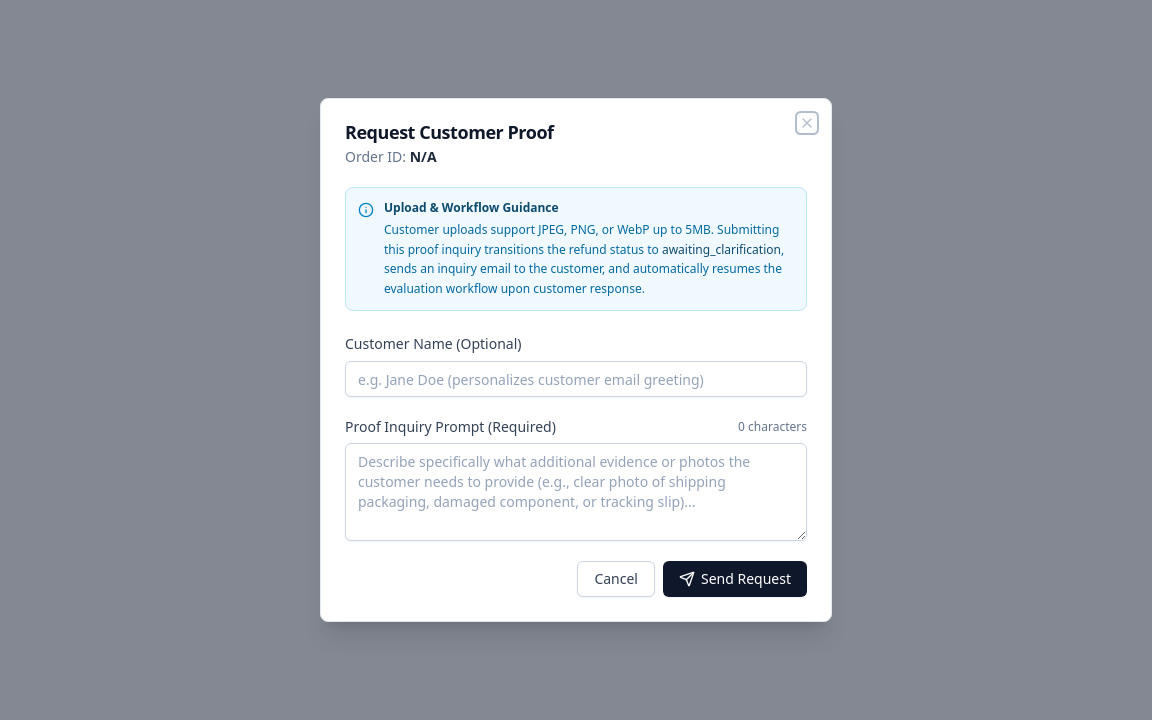
Scenario: RequestProofModal component › displays RFC 9457 ProblemDetails alert banner on mutation failure without closing modal or clearing inputs
Type "Alice" into the field labelled "Customer Name (Optional)" at (576, 379), box [345,361,807,397]
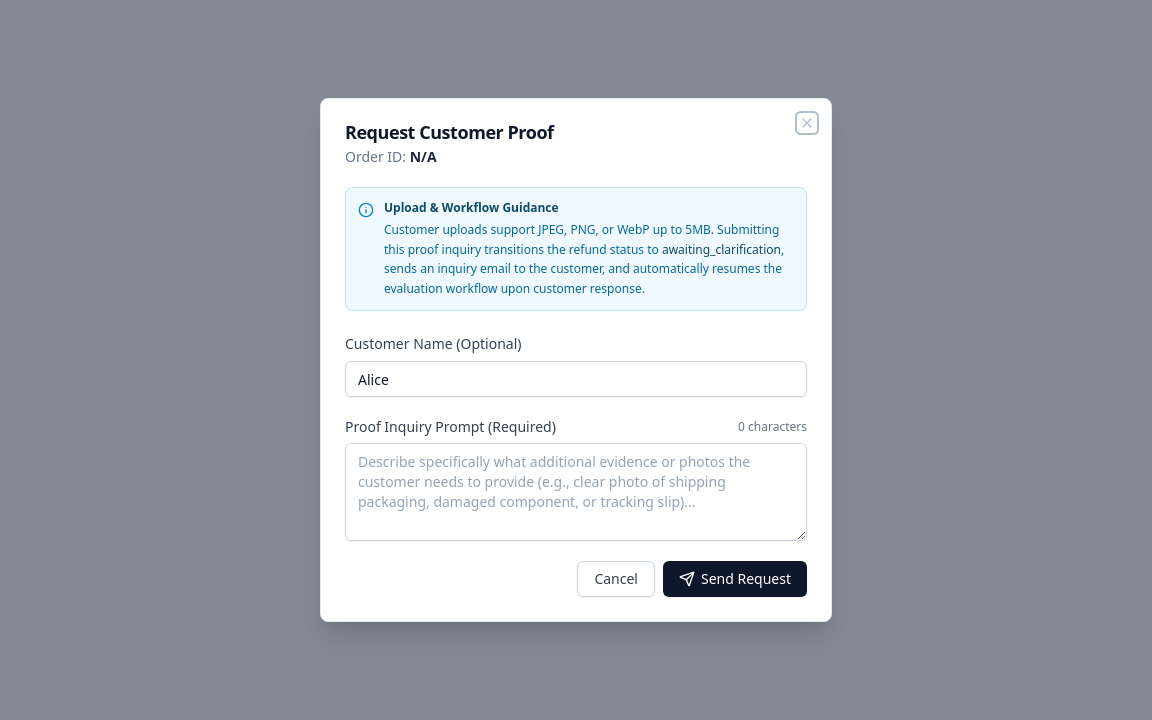
Replace the text in the text box labelled "Proof Inquiry Prompt (Required)" with "Detailed proof inquiry" at (576, 492), box [345,443,807,541]
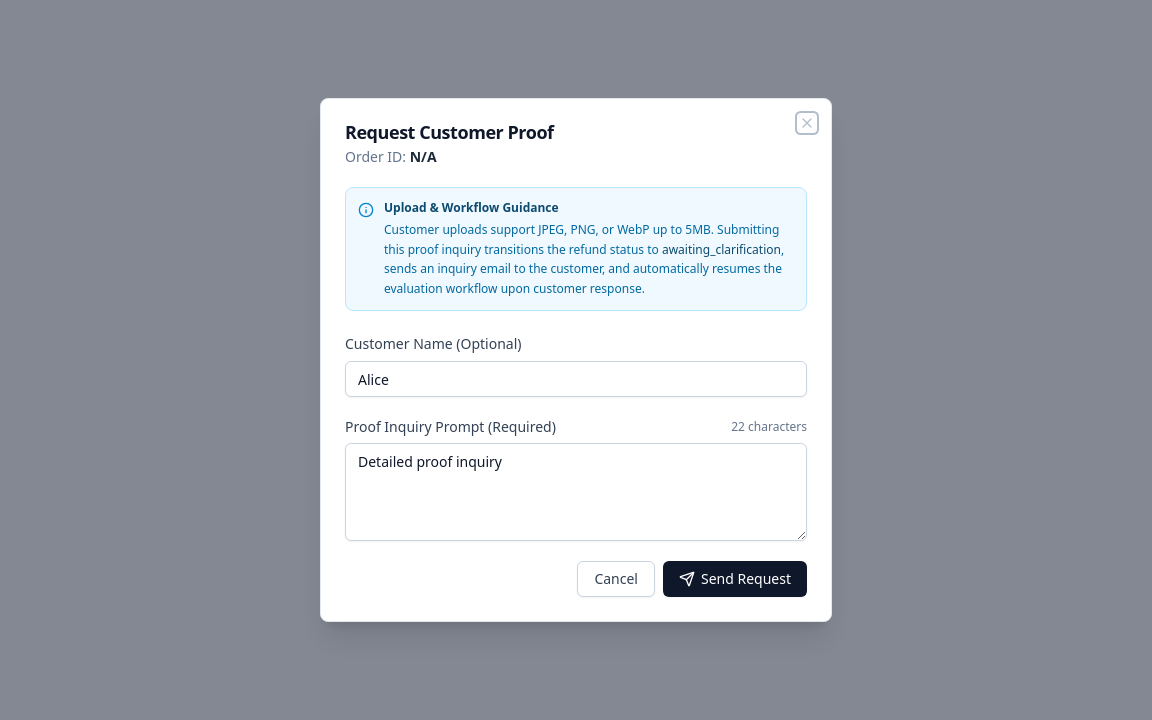
Click the button "Send Request" at (735, 579), box [663,561,807,597]
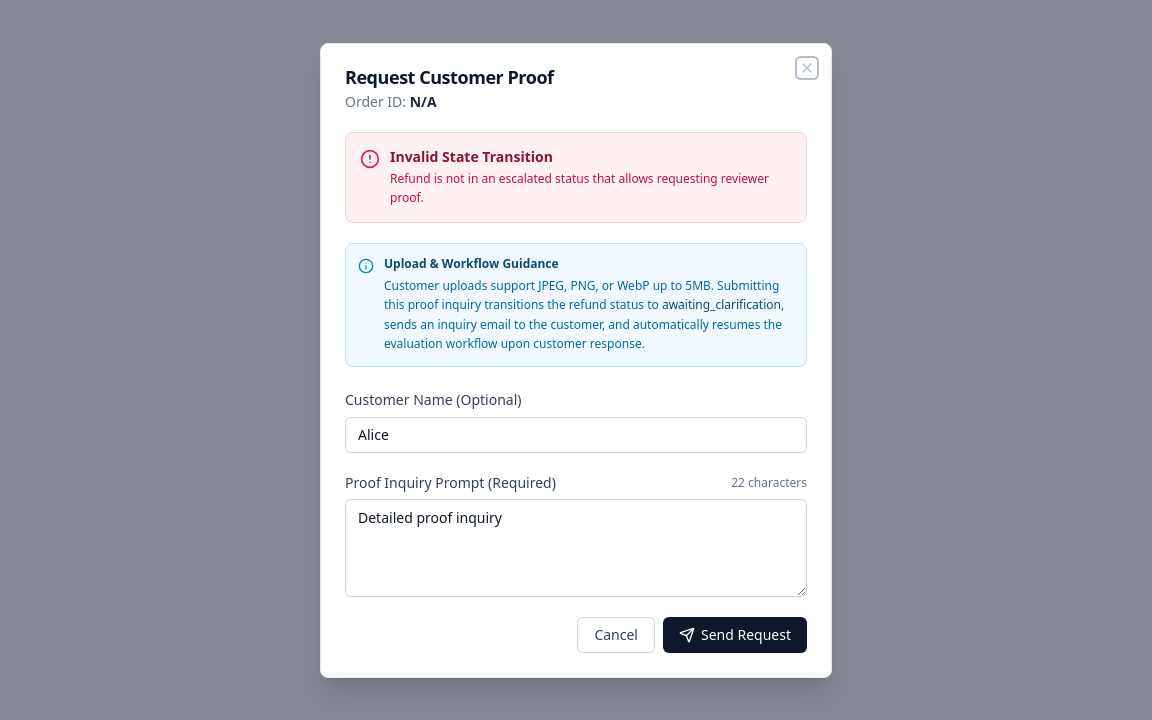
Now the message with test id "request-proof-error-banner" is shown, box [345,132,807,222]
Now the heading "Invalid State Transition" is shown, box [390,146,553,166]
Now the text "Refund is not in an escalated status that allows requesting reviewer proof." is shown, box [390,168,792,208]
